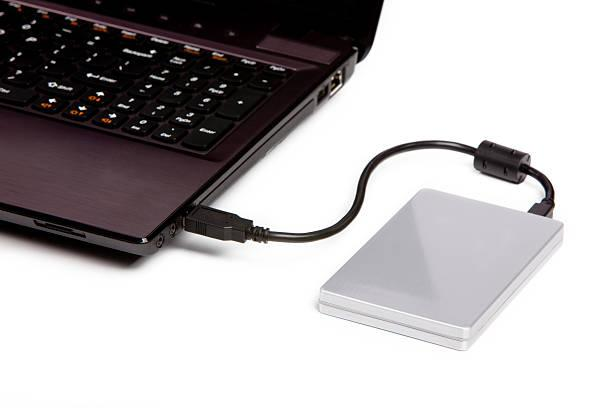HDD: (314, 188, 566, 354)
